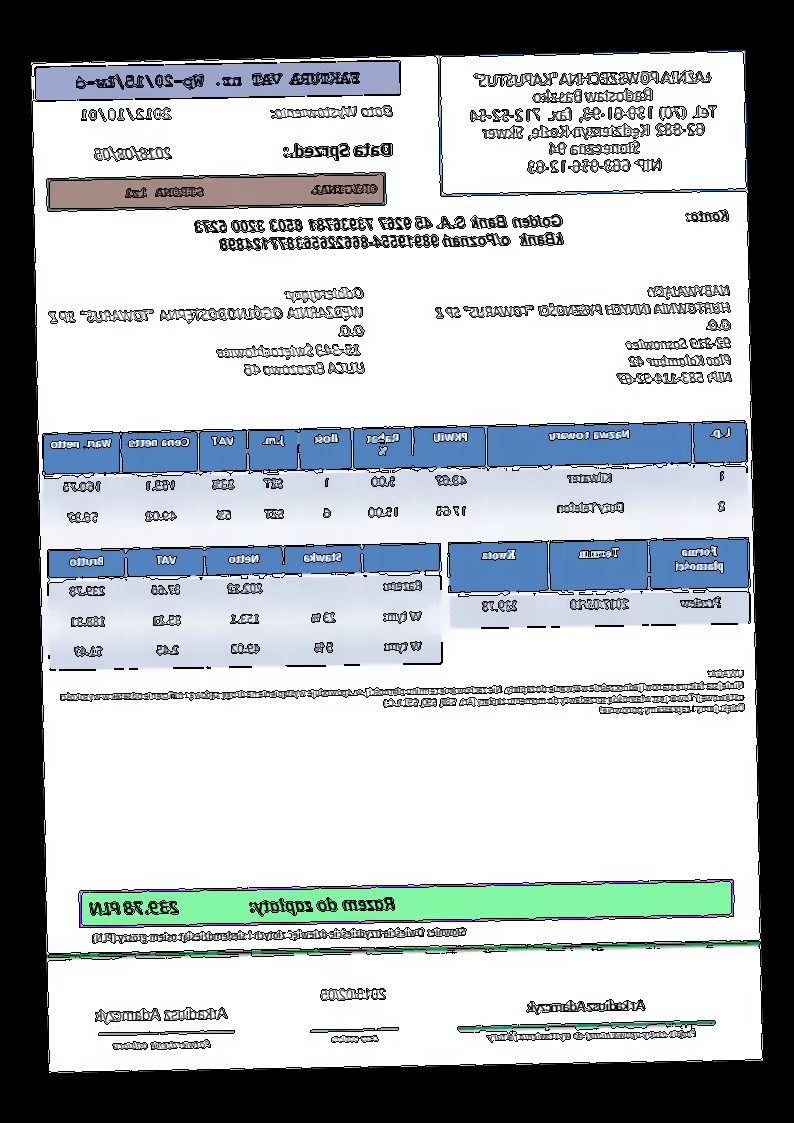Table: (42, 420, 750, 539), (47, 541, 444, 671), (447, 536, 753, 630)
TextBox: (59, 667, 747, 726), (432, 282, 734, 389), (48, 284, 368, 382), (467, 67, 721, 176), (192, 212, 566, 254), (92, 923, 468, 945), (87, 893, 398, 919), (73, 67, 362, 92), (123, 179, 381, 201), (484, 1026, 699, 1045), (92, 1005, 230, 1026), (268, 102, 395, 123), (282, 139, 395, 162), (524, 997, 647, 1016), (77, 106, 173, 126), (112, 1037, 214, 1052), (92, 145, 174, 162), (320, 985, 388, 1003), (686, 207, 730, 225), (331, 1032, 381, 1044)
